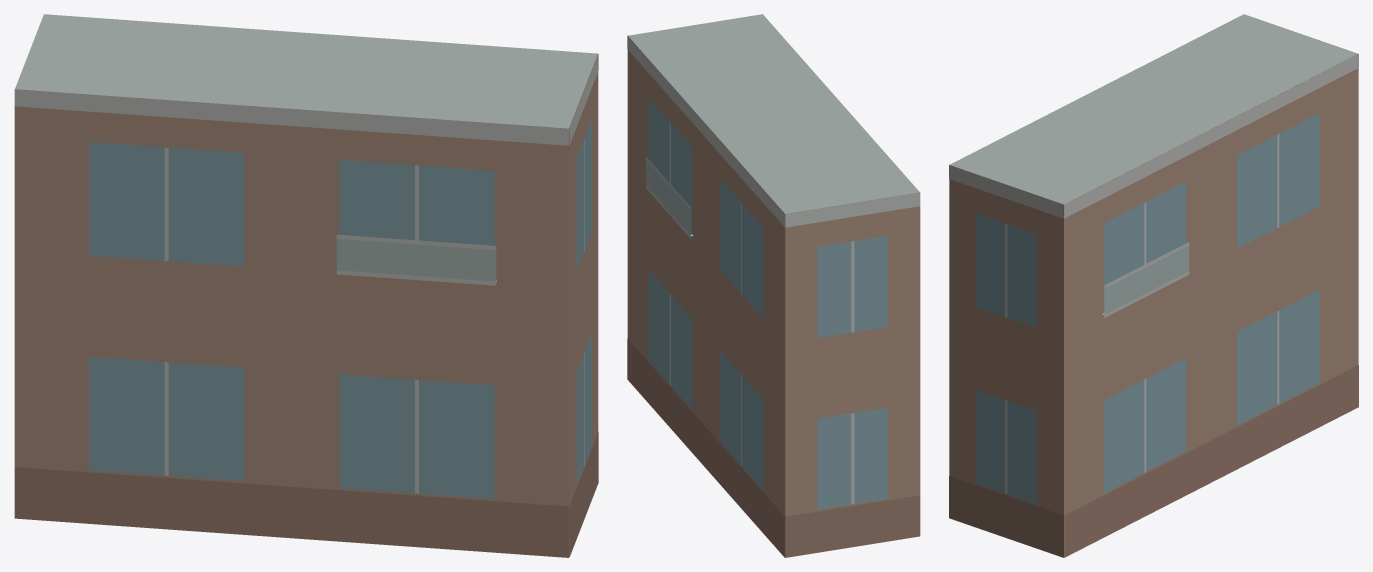
The model's file is survey-upis-32689444.glb.
3 renders of one model, left to right at view 1: azimuth 30°, elevation 25°; view 2: azimuth 150°, elevation 25°; view 3: azimuth 270°, elevation 25°, orthographic. The views are drawn at different scales.
Visible parts, largest first — view 1: survey-upis-32689444.tmp; view 2: survey-upis-32689444.tmp; view 3: survey-upis-32689444.tmp.
Boxes of the visible parts, x1,y1,x2,y2 form: survey-upis-32689444.tmp: (14, 14, 598, 557); survey-upis-32689444.tmp: (627, 14, 920, 557); survey-upis-32689444.tmp: (949, 14, 1358, 557).
Bounding box in the file's own units: 7.06 × 6.1 × 6.42.
